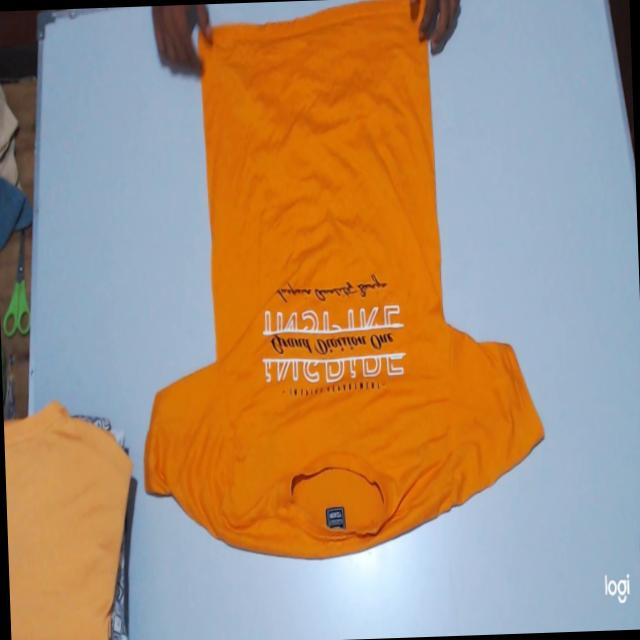new-garment: (144, 0, 543, 557)
